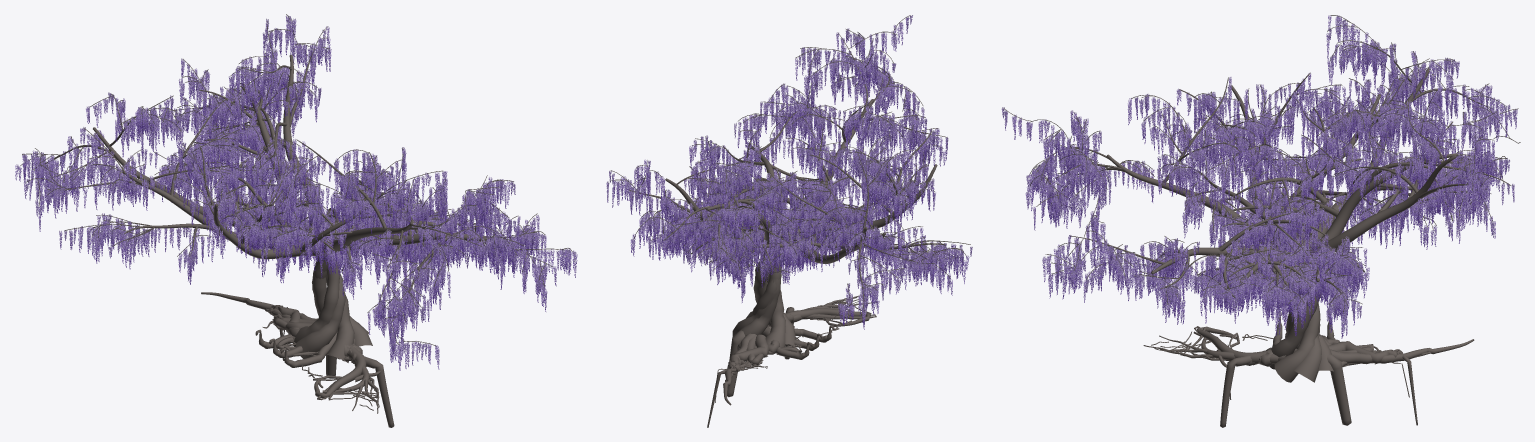
The model's file is wisteria_0.glb.
3 views of the same model, side by side, from view 1: azimuth 30°, elevation 25°; view 2: azimuth 150°, elevation 25°; view 3: azimuth 270°, elevation 25° (orthographic). The views are drawn at different scales.
Parts seen in each view (by area): view 1: Wisteria0_Blossom, Wisteria0_Bark; view 2: Wisteria0_Blossom, Wisteria0_Bark; view 3: Wisteria0_Blossom, Wisteria0_Bark.
Part boxes in pixels (x1,y1,x2,y2): Wisteria0_Blossom: (15, 15, 577, 370); Wisteria0_Bark: (20, 14, 572, 427); Wisteria0_Blossom: (606, 15, 972, 329); Wisteria0_Bark: (610, 15, 970, 427); Wisteria0_Blossom: (1001, 15, 1517, 338); Wisteria0_Bark: (1003, 15, 1520, 427).
Bounding box in the file's own units: 35.24 × 27.59 × 39.12.
Materials: 2 (1 with a texture image).
